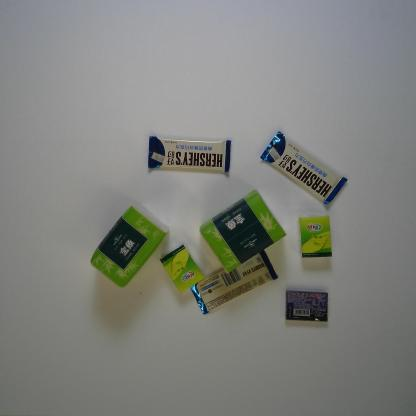Chocolate: (259, 130, 348, 205), (190, 250, 279, 316), (148, 135, 232, 175)
Gum: (285, 290, 329, 322)
Tissue: (198, 188, 287, 276), (90, 202, 170, 290), (158, 243, 206, 295), (298, 213, 334, 259)
